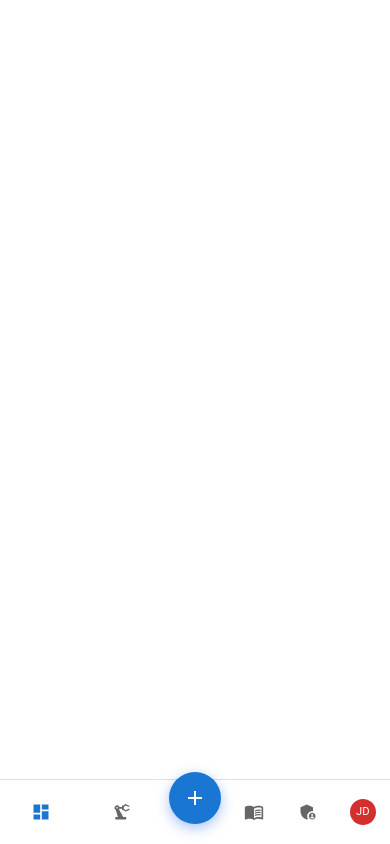
Test: BottomNav › account bottom sheet › opens with the user summary and menu items when the account tab is clicked
Expected: the text "Account Settings" is not shown
Click the button with aria-label "open account menu". click: (363, 812)
box: [336,780,389,843]
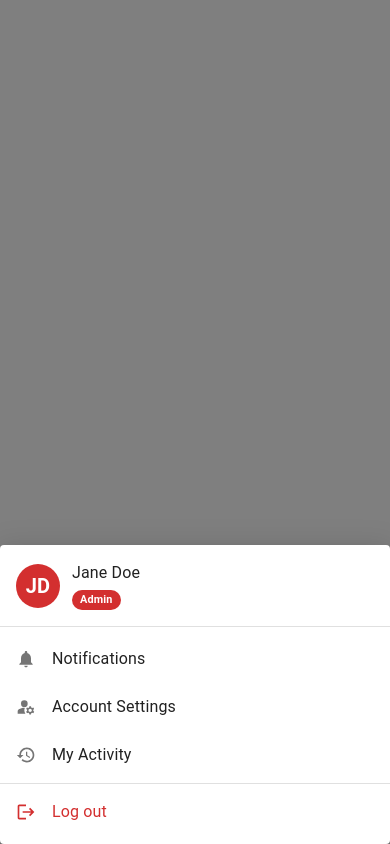
Expected: the text "Jane Doe" is shown, [72,561,140,585]
Expected: the text "Admin" is shown, [80,593,113,606]
Expected: the text "Account Settings" is shown, [52,697,176,716]
